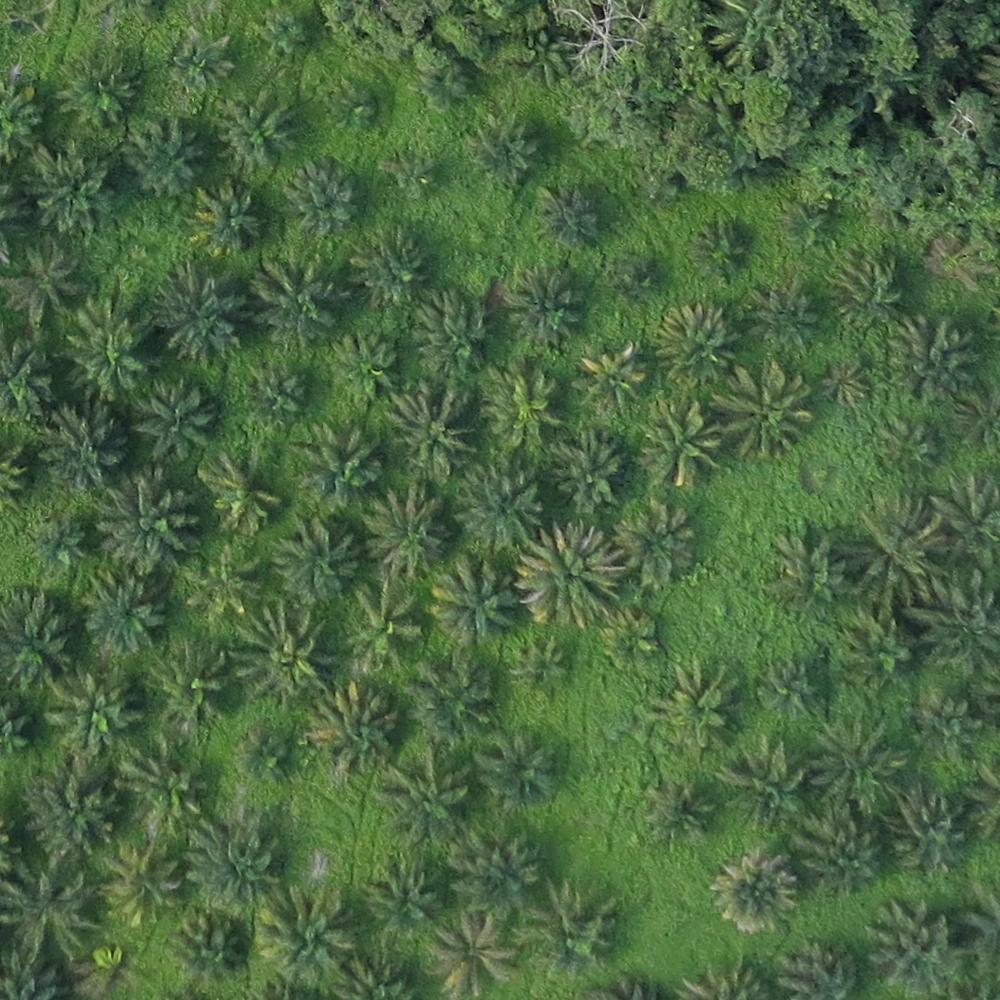Palm: (508, 531, 621, 627), (849, 496, 947, 606), (251, 882, 353, 980), (94, 476, 196, 573), (57, 299, 160, 394), (444, 832, 545, 924), (715, 363, 817, 454), (2, 866, 96, 964), (236, 608, 337, 699), (46, 664, 139, 759), (186, 815, 281, 908), (247, 251, 342, 344), (628, 398, 723, 490), (149, 263, 242, 356), (25, 763, 120, 852), (525, 883, 620, 972), (266, 522, 364, 608), (428, 558, 519, 649), (475, 367, 573, 451), (912, 574, 1000, 667), (121, 744, 212, 833), (389, 381, 480, 469), (810, 718, 907, 800), (611, 499, 698, 590), (377, 754, 469, 840), (794, 808, 880, 899), (717, 746, 813, 827), (311, 684, 396, 775), (863, 901, 956, 984), (415, 286, 501, 374), (40, 399, 129, 484), (196, 450, 285, 535), (342, 584, 427, 671), (29, 149, 117, 233), (713, 850, 801, 934), (449, 469, 545, 546), (497, 266, 587, 348), (408, 662, 499, 743), (151, 647, 234, 735), (763, 529, 852, 611), (79, 571, 165, 654), (97, 841, 184, 922), (894, 317, 975, 404), (542, 430, 627, 512), (366, 490, 452, 570), (660, 658, 741, 742), (120, 116, 200, 201), (360, 857, 442, 939), (499, 265, 584, 344), (135, 380, 217, 461), (656, 301, 736, 384), (471, 730, 558, 806), (885, 789, 965, 871), (216, 92, 300, 167), (301, 428, 386, 502), (351, 229, 432, 305), (56, 56, 138, 129), (748, 281, 825, 357), (828, 248, 904, 324), (286, 161, 363, 236), (236, 358, 316, 430), (908, 689, 986, 762), (190, 181, 267, 254), (172, 912, 251, 983), (469, 113, 546, 184), (321, 330, 401, 396), (640, 779, 717, 847), (162, 25, 231, 96), (578, 345, 648, 412), (536, 182, 605, 249)
